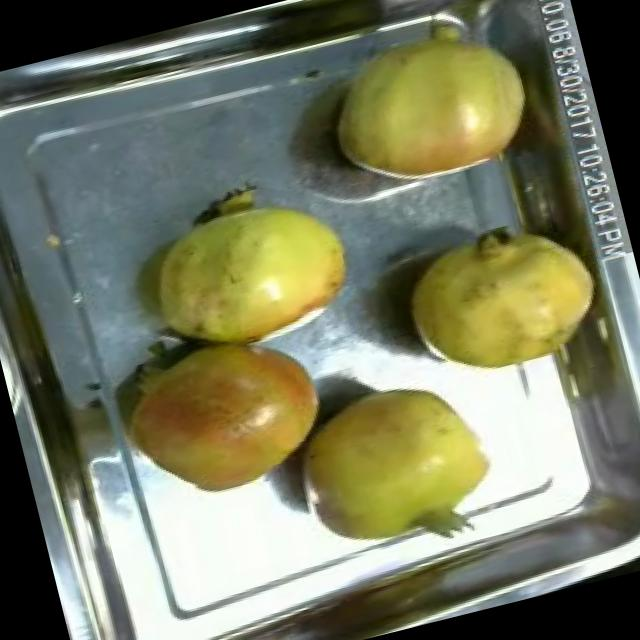fruit: (113, 150, 380, 382), (267, 355, 518, 574), (304, 0, 552, 213), (105, 310, 352, 520), (382, 198, 620, 398)
